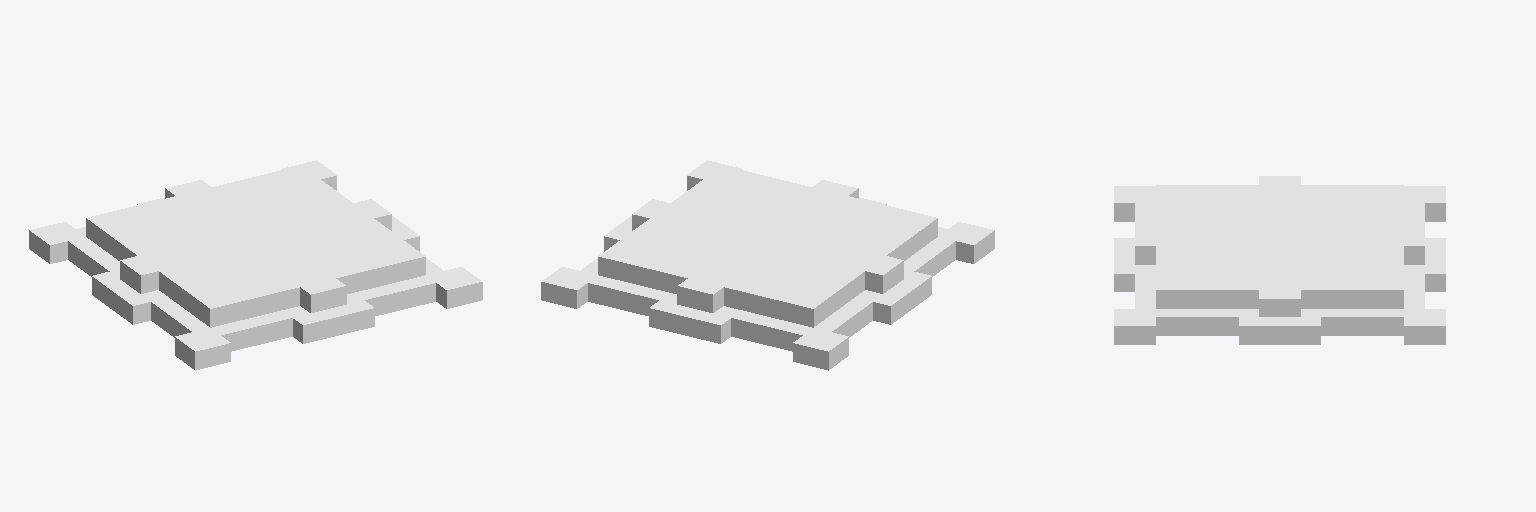
Rendered from enter_gate.obj.
The picture shows the model from 3 angles: view 1: azimuth 30°, elevation 25°; view 2: azimuth 150°, elevation 25°; view 3: azimuth 270°, elevation 25°; orthographic projection.
Size of the model in its own units: 1 by 0.125 by 1.